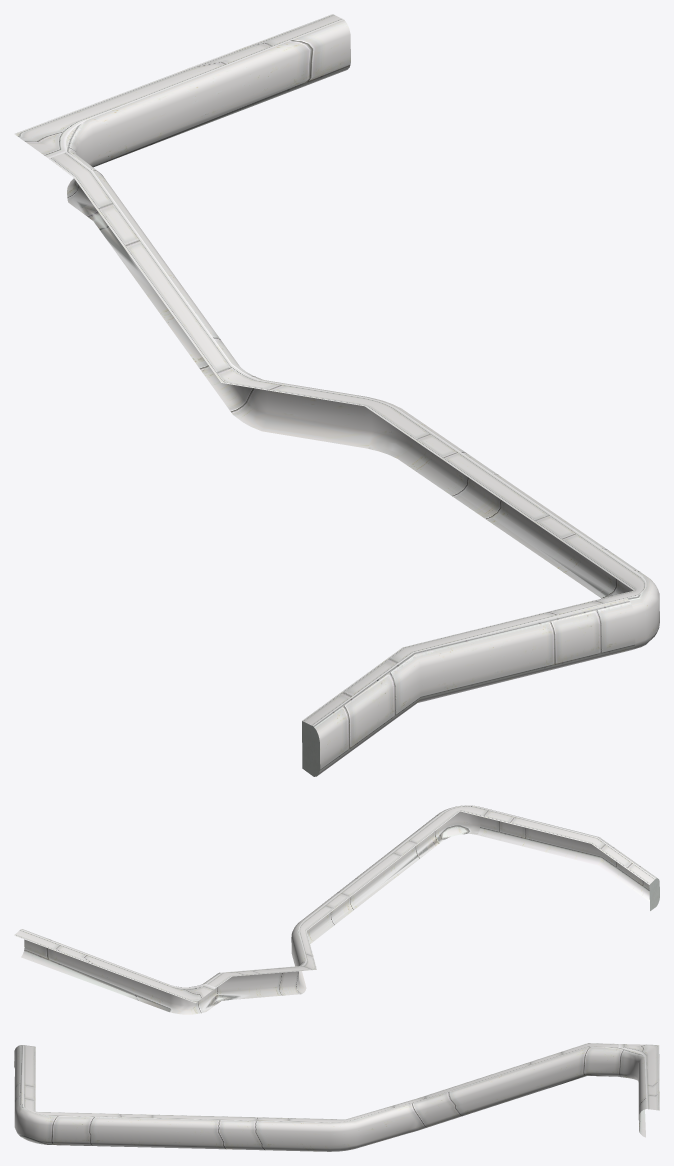
The model's file is STA20_StorecurveC01.FBX.
3 views of the same model, one above another, from view 1: azimuth 30°, elevation 25°; view 2: azimuth 150°, elevation 25°; view 3: azimuth 270°, elevation 25° (orthographic). The views are drawn at different scales.
Visible parts, largest first — view 1: STA20_StorecurveC01; view 2: STA20_StorecurveC01; view 3: STA20_StorecurveC01.
Boxes of the visible parts, left/top/right/bottom form: STA20_StorecurveC01: left=14, top=14, right=659, bottom=776; STA20_StorecurveC01: left=14, top=805, right=659, bottom=1014; STA20_StorecurveC01: left=14, top=1043, right=659, bottom=1151.
Bounding box in the file's own units: 13.97 × 5.08 × 23.65.
